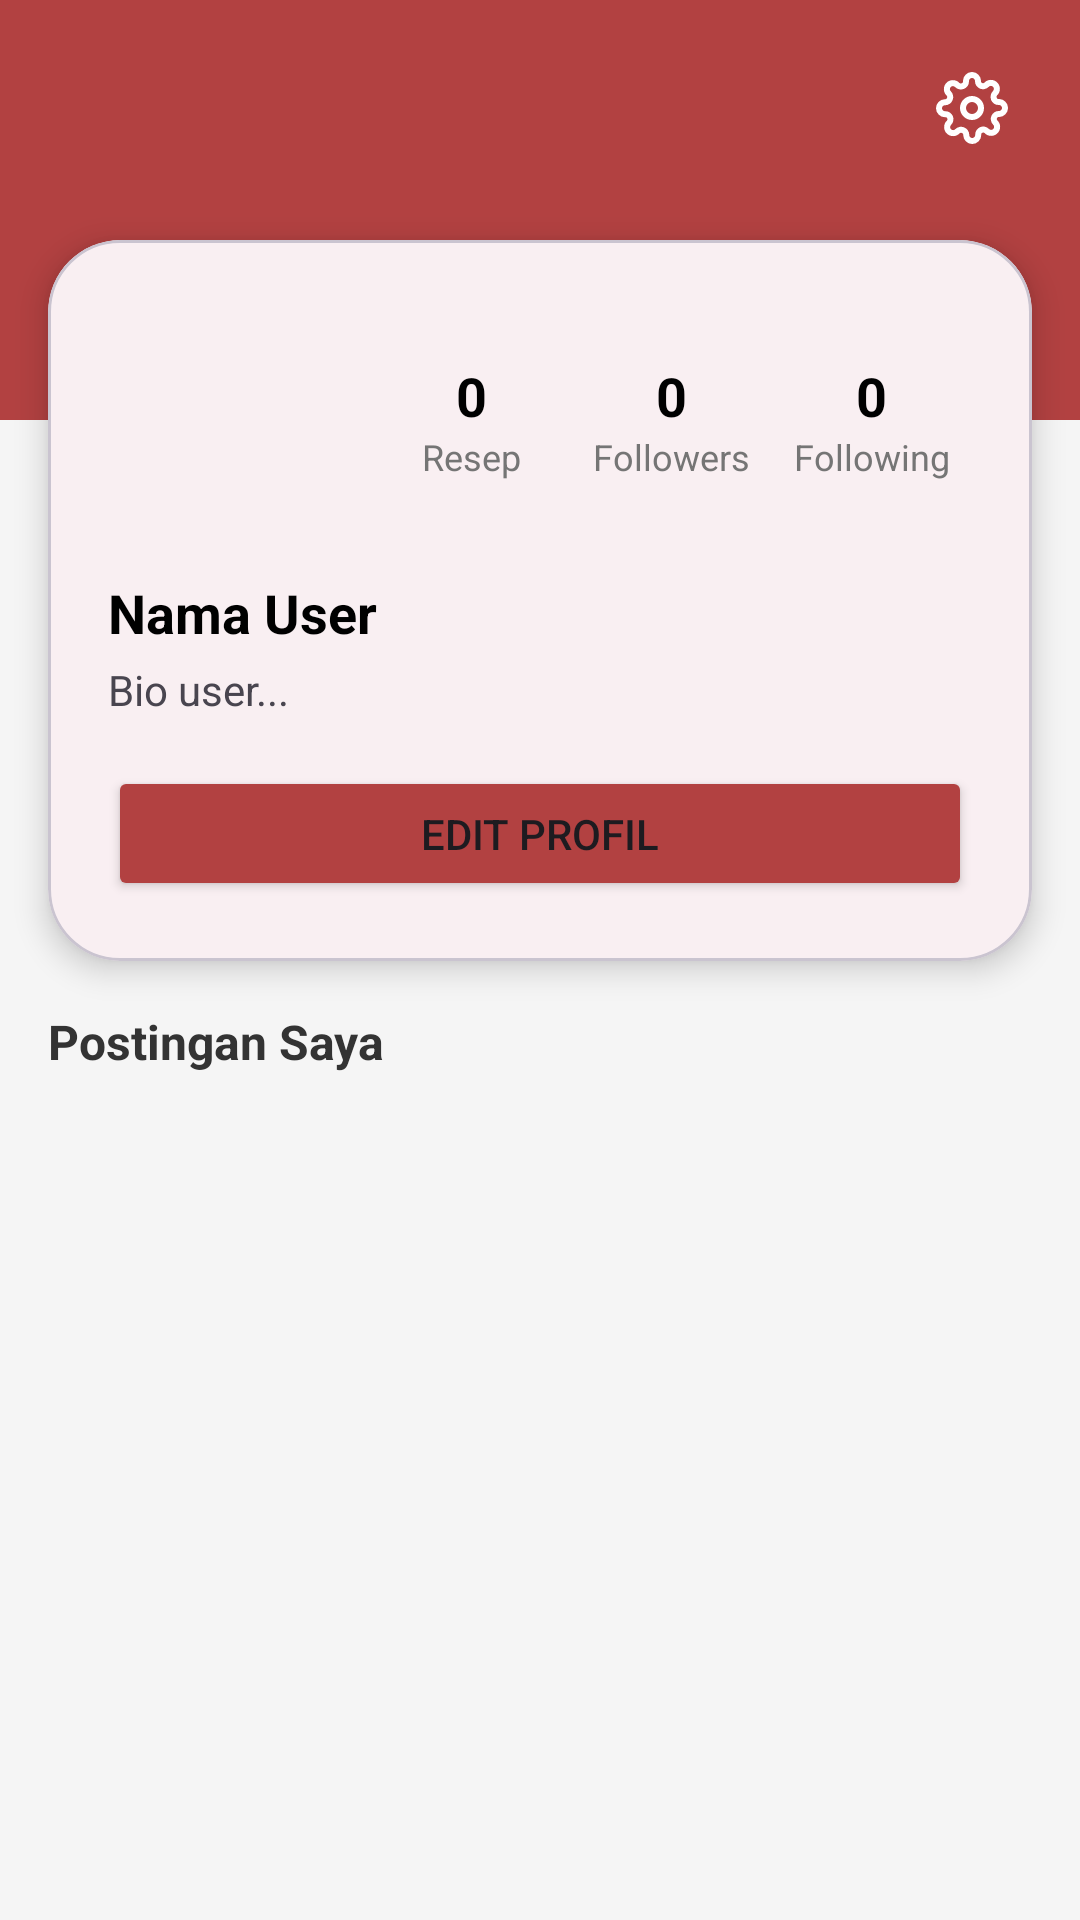

Icons on this 1080x1920 Android screen, each with its box as detection(x1, y1, x2, y2):
setting: detection(936, 72, 1008, 144)
